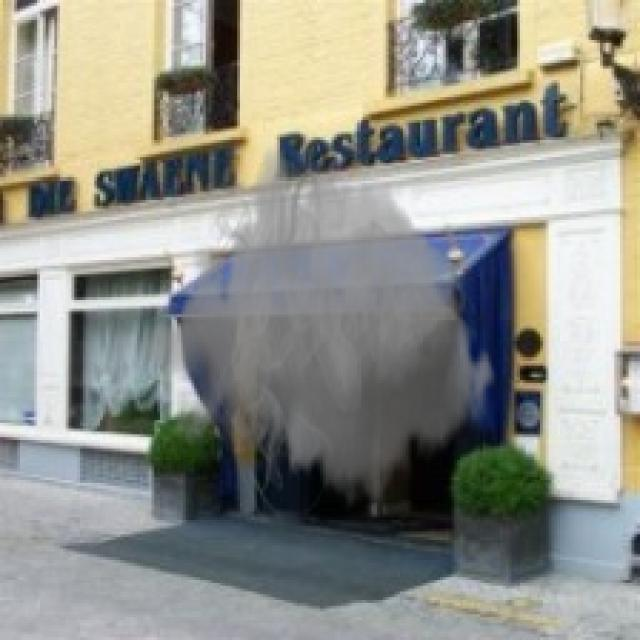smoke: (137, 132, 497, 537)
